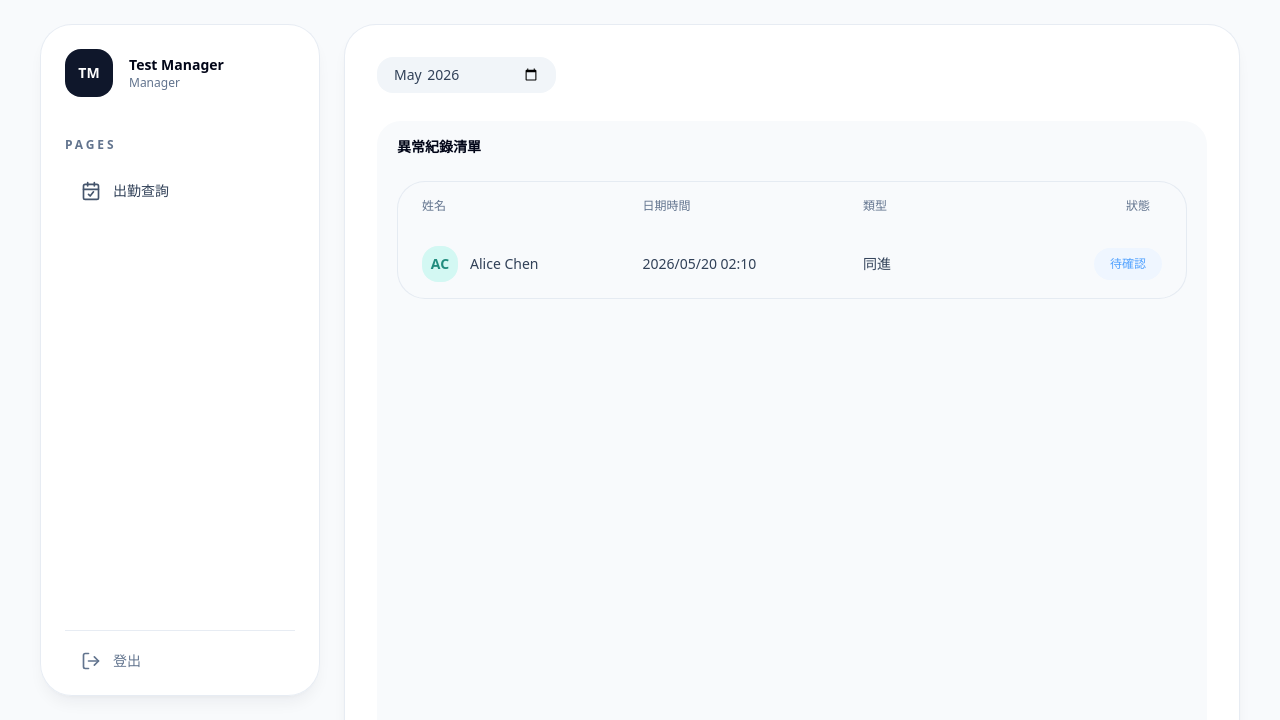
Scenario: AnomaliesPage › updates the selected anomaly status
This screenshot has width=1280, height=720.
Click the button "待確認".
click(1128, 264)  # box [1094,248,1162,280]
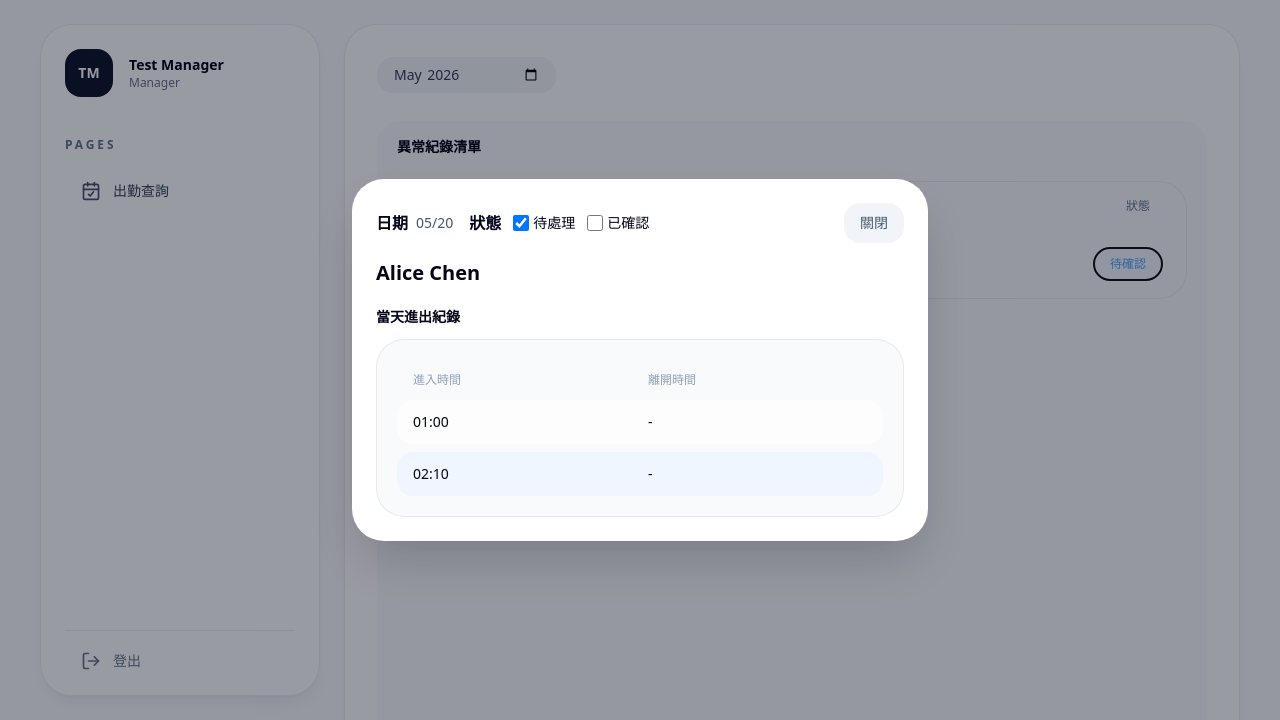
Click the checkbox labelled "已確認".
click(595, 223)  # box [587,215,603,231]
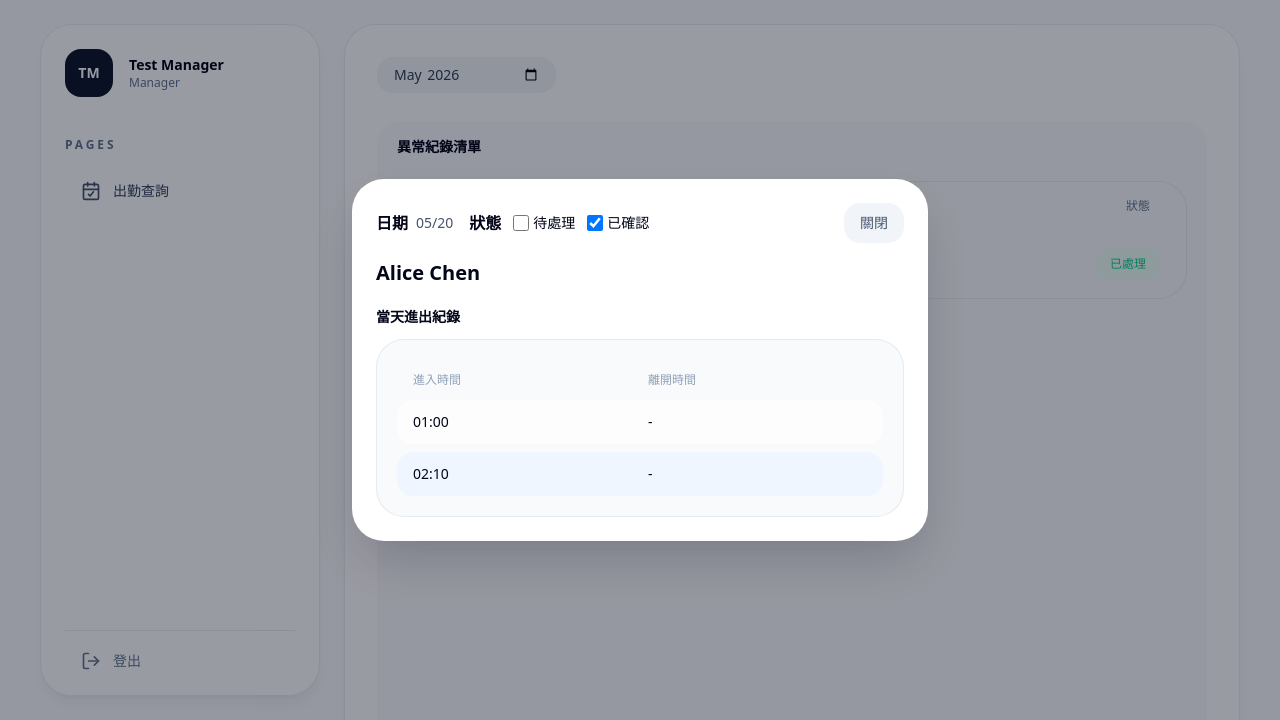
Expected: the button "已處理" is shown, [1094,248,1162,280]
